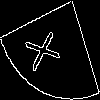X: (25, 25, 68, 72)
